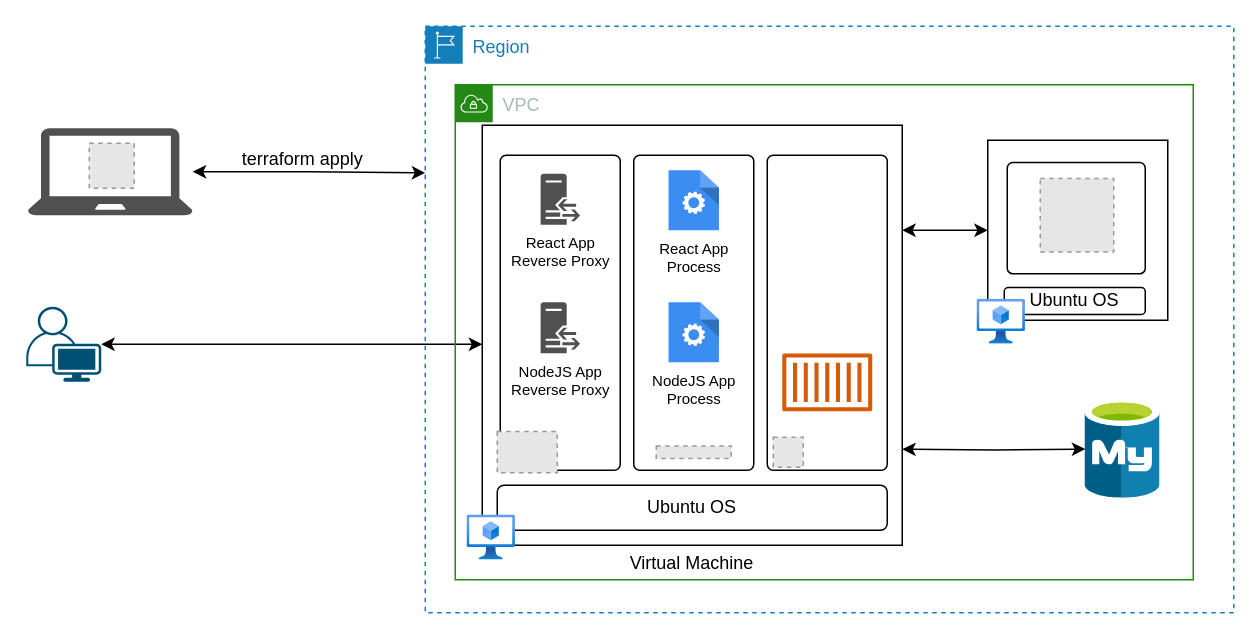
Image size: 1260x639. Some labels were removed from this diagram. Grey dashed boxes stand in for pictures. The shapes that lost their labels are listed below. From the top down, each one's centre as x and y in pixels, then its label:
the point at 63,343: User
the point at 827,381: Redis
the point at 1122,448: MySQL RDS
